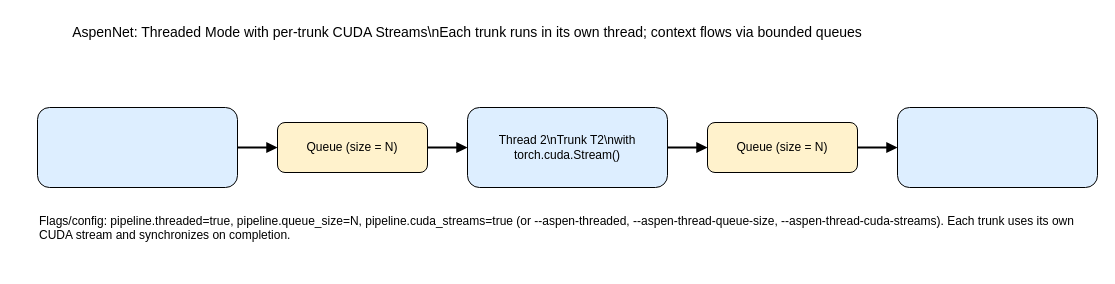
This 1115x284 diagram has some shape labels left out. The shapes that lost their labels are listed below. From the top down, each one's box as (x1, y1, x2, y2) in pixels, then its label:
(36, 106, 238, 188): Thread 1\nTrunk T1\nwith torch.cuda.Stream()
(896, 106, 1098, 188): Thread 3\nTrunk T3\nwith torch.cuda.Stream()
